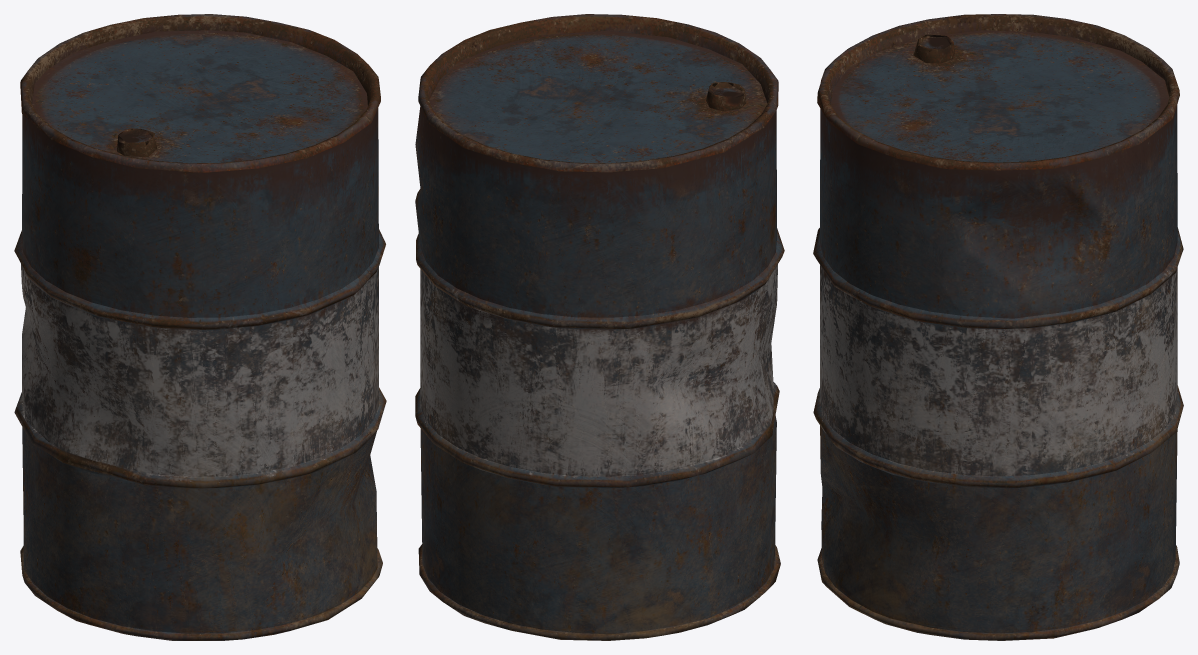
File: SM_Barrel_01.fbx
The picture shows the model from 3 angles, left to right: view 1: azimuth 30°, elevation 25°; view 2: azimuth 150°, elevation 25°; view 3: azimuth 270°, elevation 25°; orthographic projection.
Parts seen in each view (by area): view 1: SM_Barrel_01_LOD0; view 2: SM_Barrel_01_LOD0; view 3: SM_Barrel_01_LOD0.
Part boxes in pixels (x1=…): SM_Barrel_01_LOD0: x1=14, y1=14, x2=386, y2=640; SM_Barrel_01_LOD0: x1=415, y1=14, x2=784, y2=640; SM_Barrel_01_LOD0: x1=813, y1=14, x2=1183, y2=640.
Bounding box in the file's own units: 65.49 × 65.17 × 92.92.
Materials: 1 (1 with a texture image).
